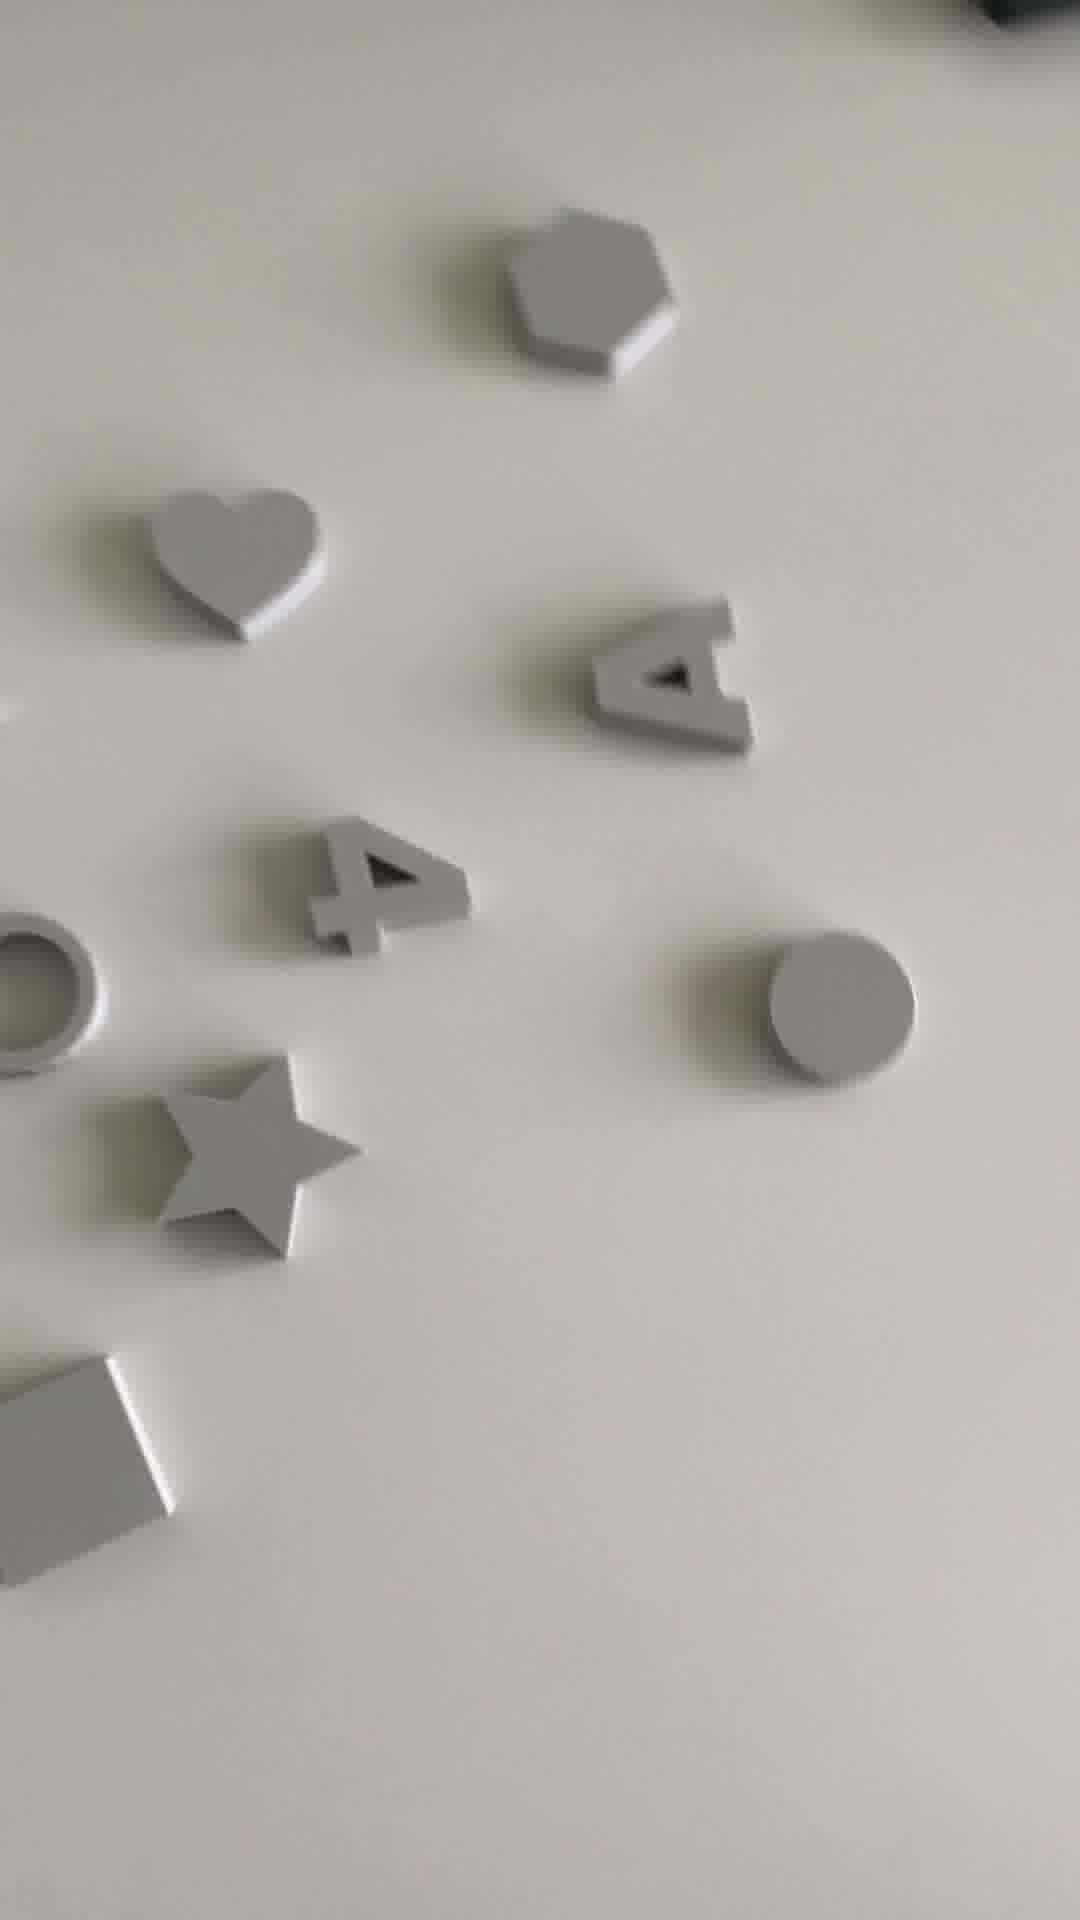Gray A-letter: (588, 599, 746, 767)
Gray circle: (757, 928, 924, 1087)
Gray four: (290, 816, 488, 971)
Gray heart: (137, 479, 334, 650)
Gray hexagon: (508, 200, 698, 378)
Gray ring: (1, 909, 124, 1071)
Gray square: (1, 1346, 173, 1604)
Gray star: (135, 1052, 363, 1269)
